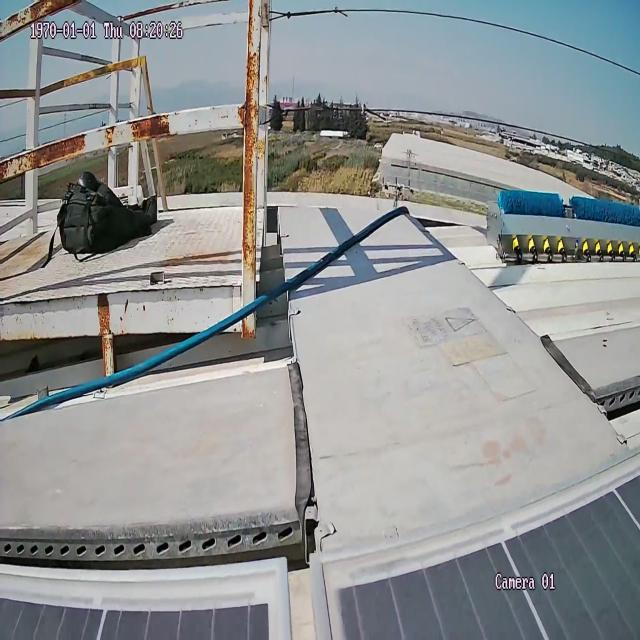outher panel: (0, 225, 640, 595)
